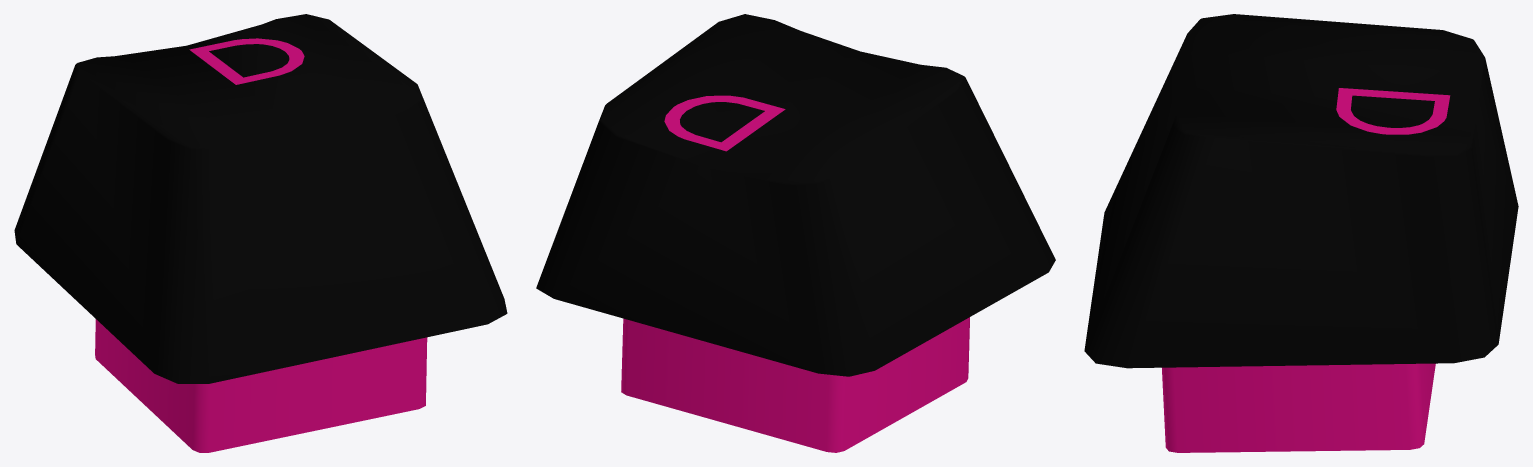
File: d-B7UHp5x9.glb
The picture shows the model from 3 angles, left to right: view 1: azimuth 30°, elevation 25°; view 2: azimuth 150°, elevation 25°; view 3: azimuth 270°, elevation 25°; orthographic projection. The views are drawn at different scales.
Parts seen in each view (by area): view 1: StudyShelf_1134; view 2: StudyShelf_1134; view 3: StudyShelf_1134.
Part boxes in pixels (x1=…): StudyShelf_1134: x1=14, y1=14, x2=507, y2=452; StudyShelf_1134: x1=536, y1=14, x2=1055, y2=452; StudyShelf_1134: x1=1084, y1=14, x2=1518, y2=452.
Size of the model in its own units: 4.35 by 3.55 by 4.35.
